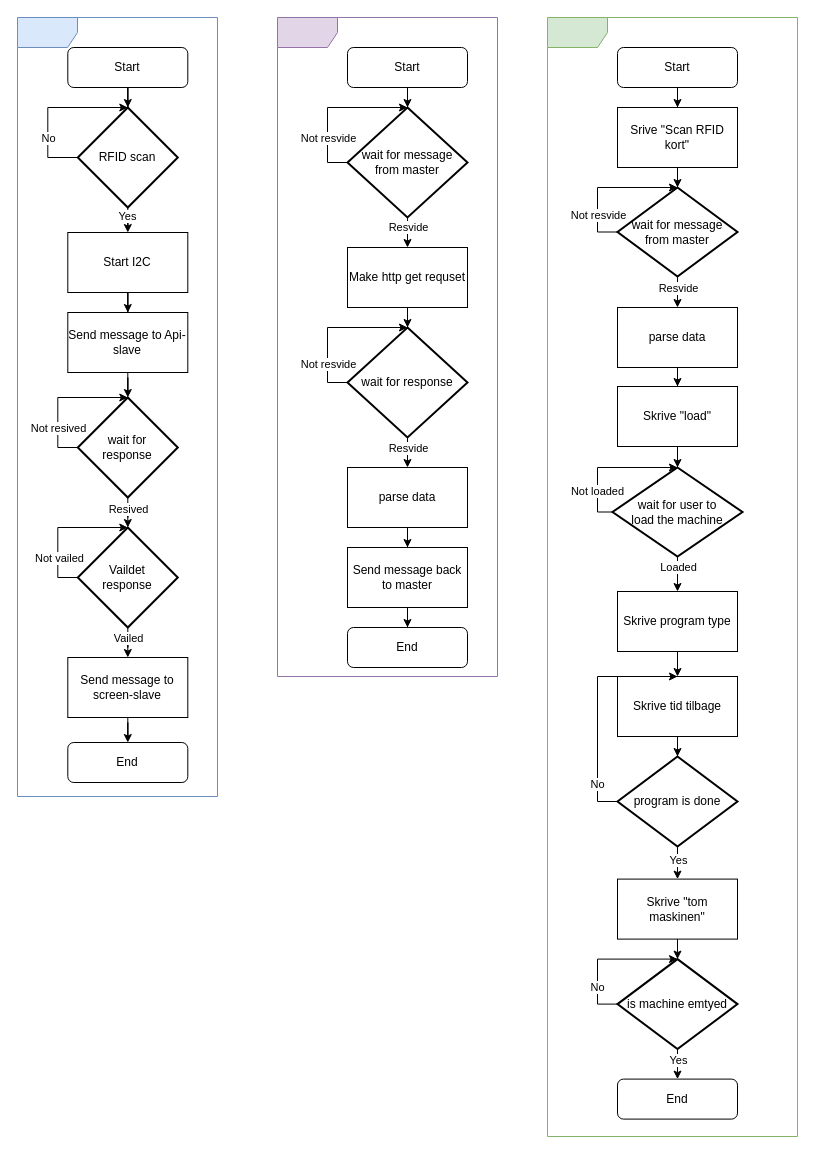
Some shapes in this 815 by 1154 pixel diagram are drawn without their labels. Here are the shapes that lost their labels. From the top down, the centre of each, then its label:
At (387,346): "API slave".
At (117,406): "Rfid Master".
At (672,576): "Screen slave".
